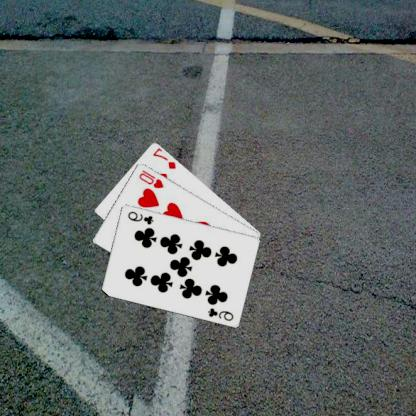10H: (138, 166, 167, 190)
7D: (152, 145, 179, 170)
9C: (127, 208, 156, 226), (207, 305, 236, 322)
